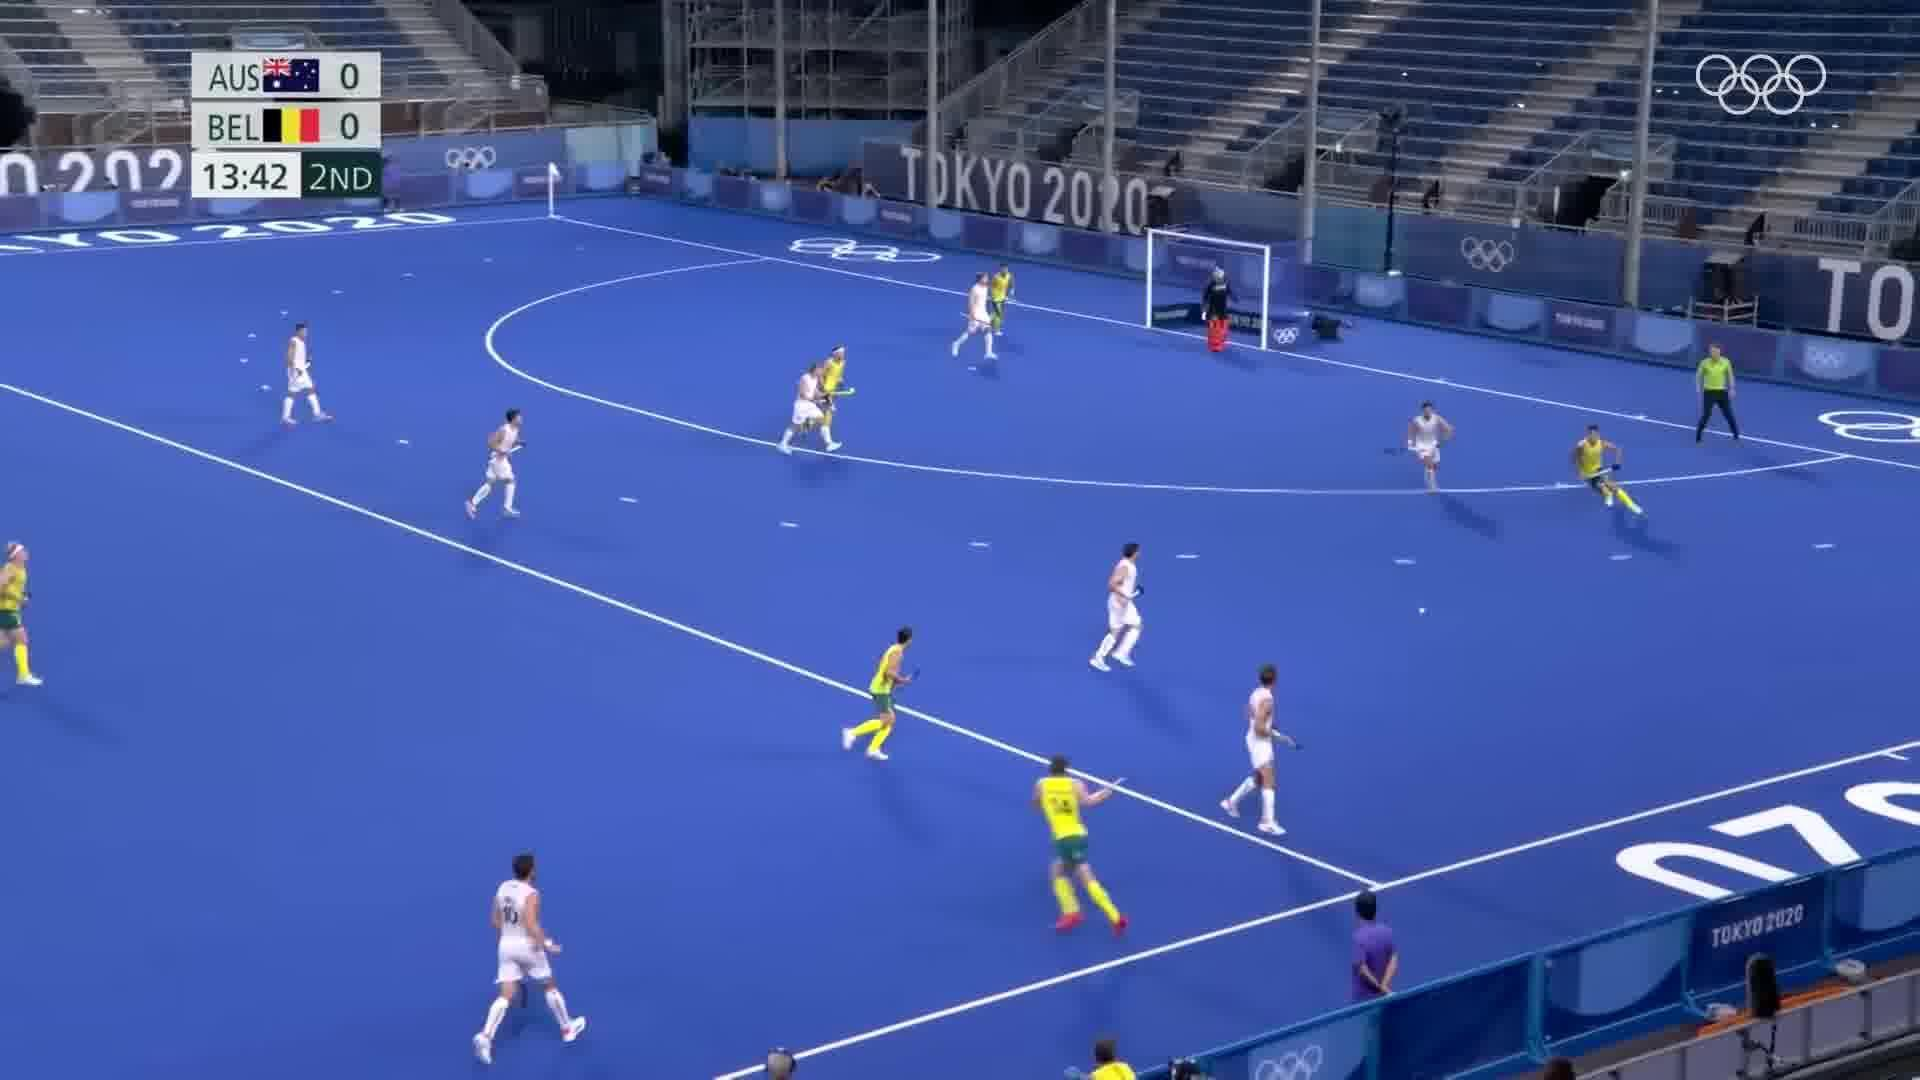ball: (1406, 597, 1439, 622)
